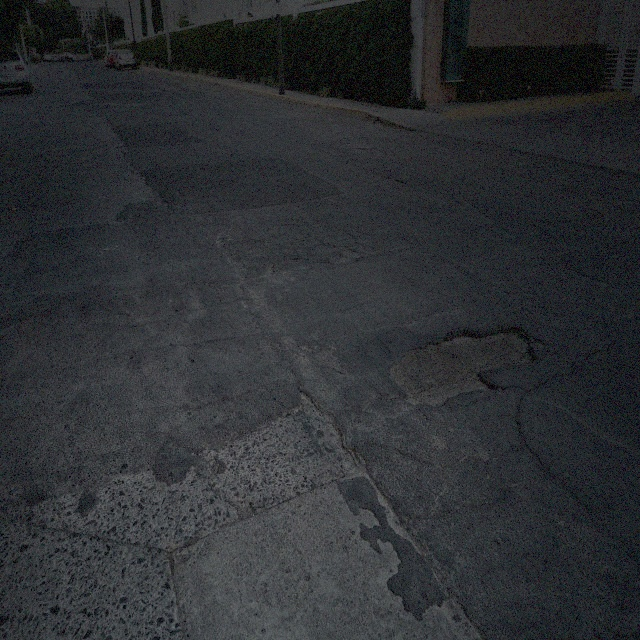pothole: (388, 326, 547, 415), (297, 382, 320, 413), (233, 499, 256, 524), (387, 175, 405, 186)
